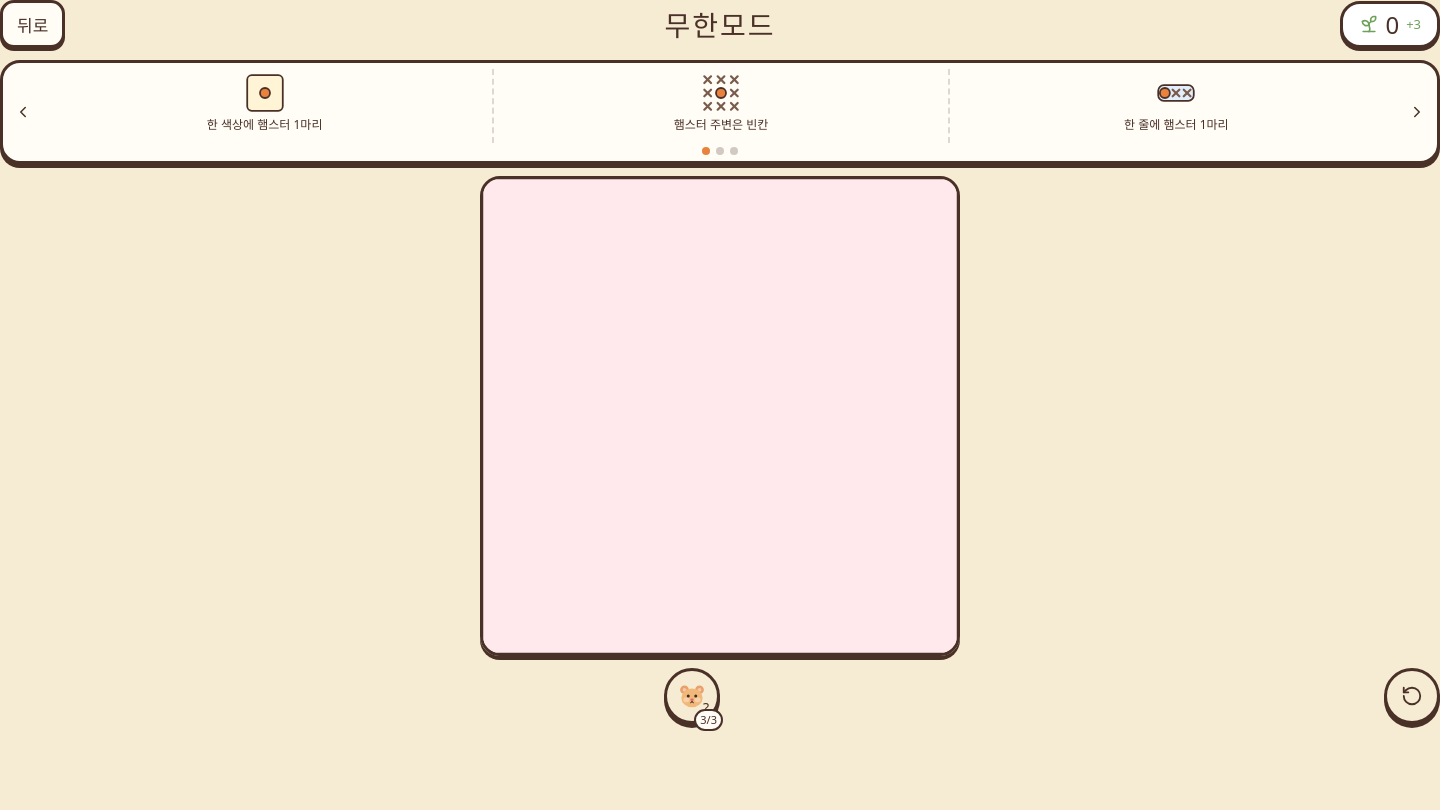
StrictMode에서 같은 퍼즐을 재발급받으면 새 보드가 시작되고 최초 요청은 중복되지 않는다
Double-click the button named "빈칸" at (720, 416), box [483,179,957,653]
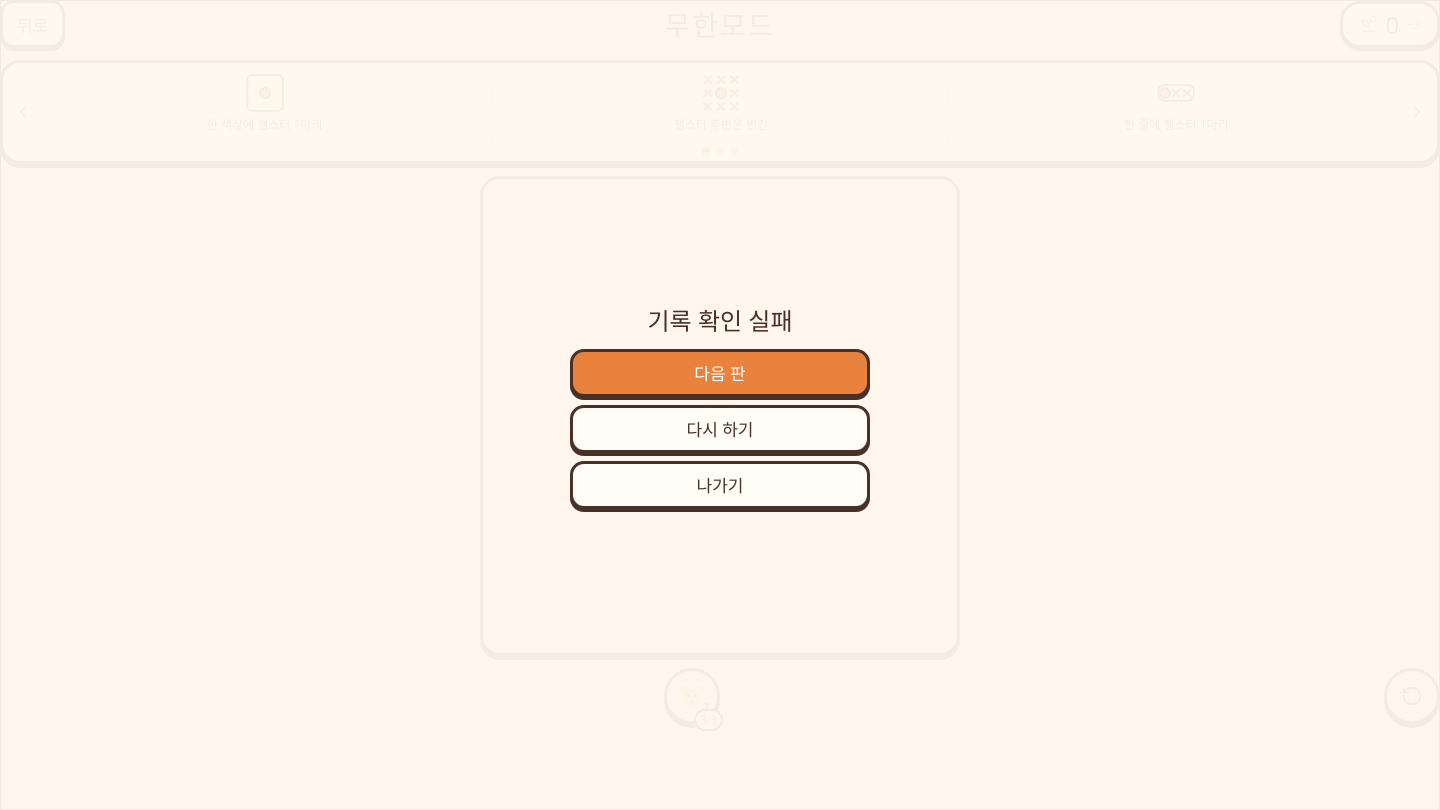
Now the button "다음 판" is enabled
Click the button "다음 판". click: (720, 372)
box: [570,348,870,396]
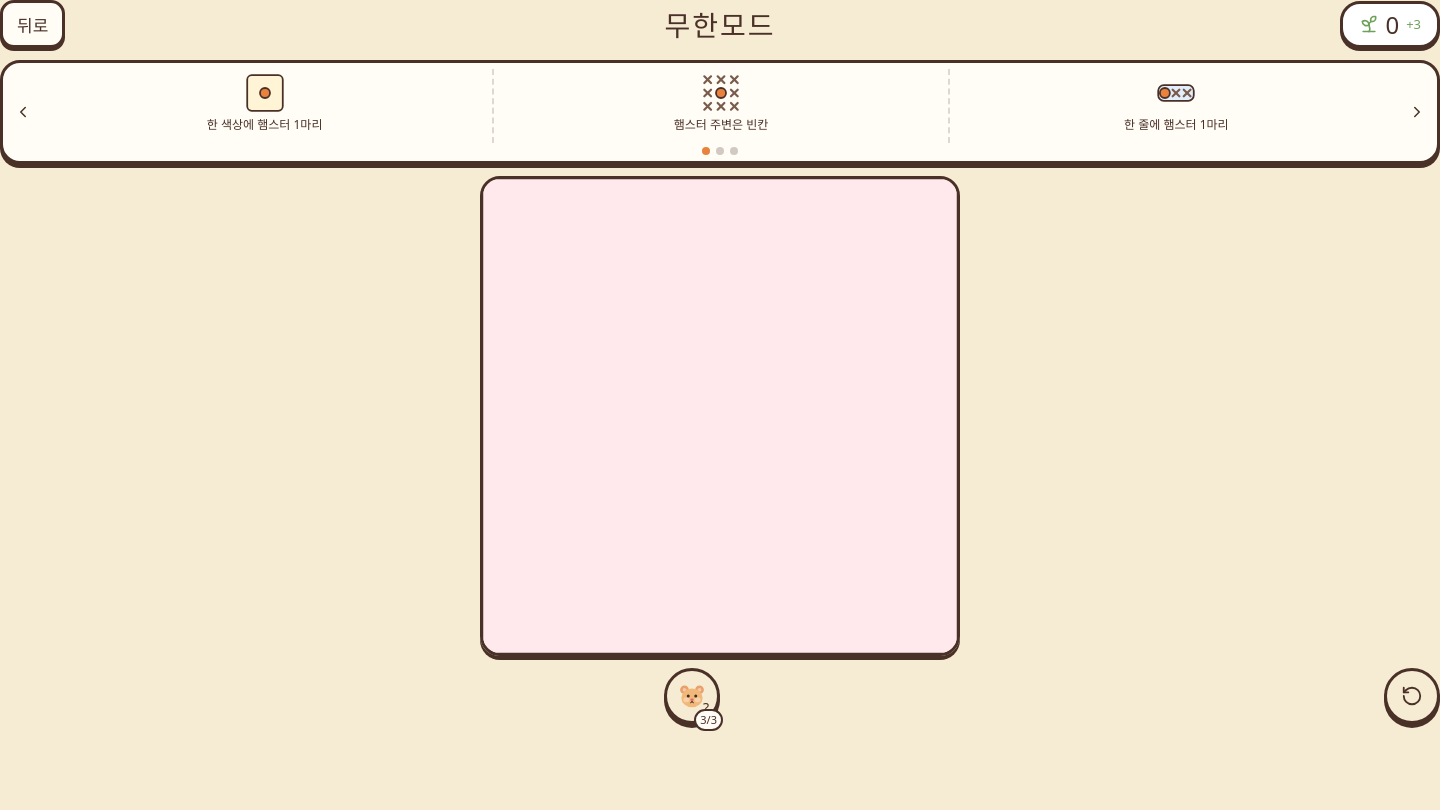
Now the dialog "클리어" is gone
Now the button named "빈칸" is shown, box [483,179,957,653]
